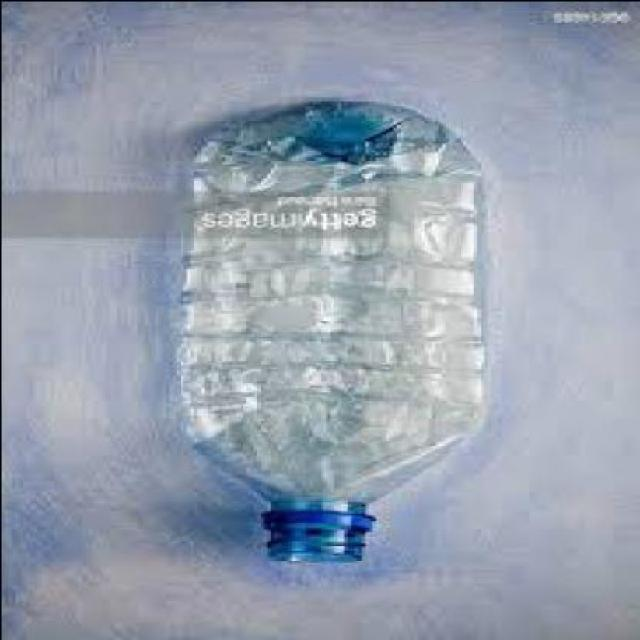PLASTIC: (168, 105, 486, 566)
